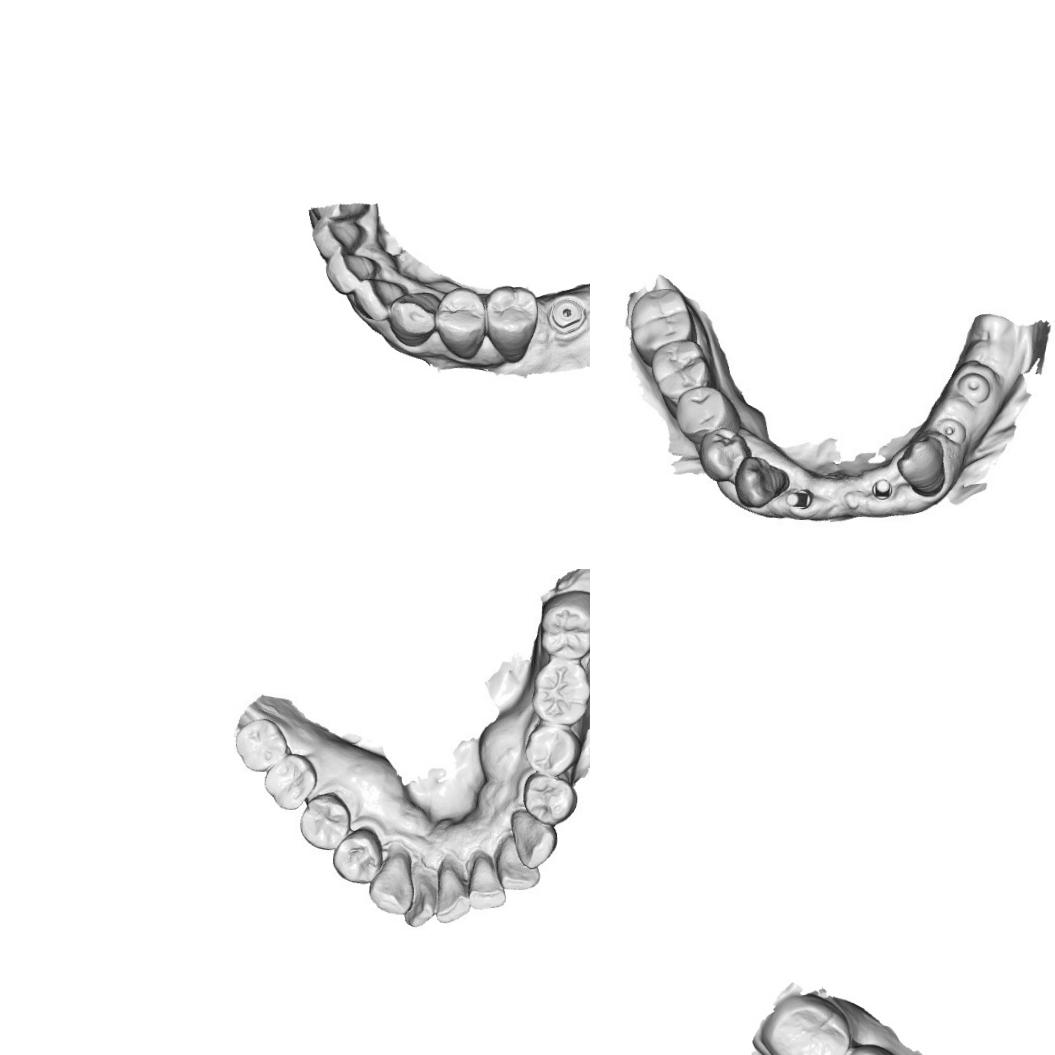abutment: (864, 470, 896, 504), (780, 483, 814, 514)
canine: (385, 286, 443, 350), (892, 434, 950, 496), (366, 850, 418, 918), (506, 808, 558, 870), (734, 458, 788, 509)
implant: (547, 294, 588, 336), (956, 366, 992, 407), (934, 411, 971, 448)
incisor: (350, 276, 410, 326), (308, 214, 369, 262), (322, 250, 382, 298), (433, 862, 472, 926), (466, 855, 507, 914), (496, 840, 542, 892), (403, 866, 435, 930)
molar: (757, 991, 854, 1055), (527, 656, 590, 728), (537, 591, 590, 662), (260, 750, 318, 812), (234, 714, 292, 774), (630, 290, 690, 346), (652, 338, 702, 397)
premolar: (481, 282, 545, 367), (430, 282, 490, 364), (520, 722, 582, 778), (297, 792, 353, 852), (328, 826, 384, 886), (518, 770, 577, 826), (700, 426, 750, 480), (671, 387, 725, 435)
